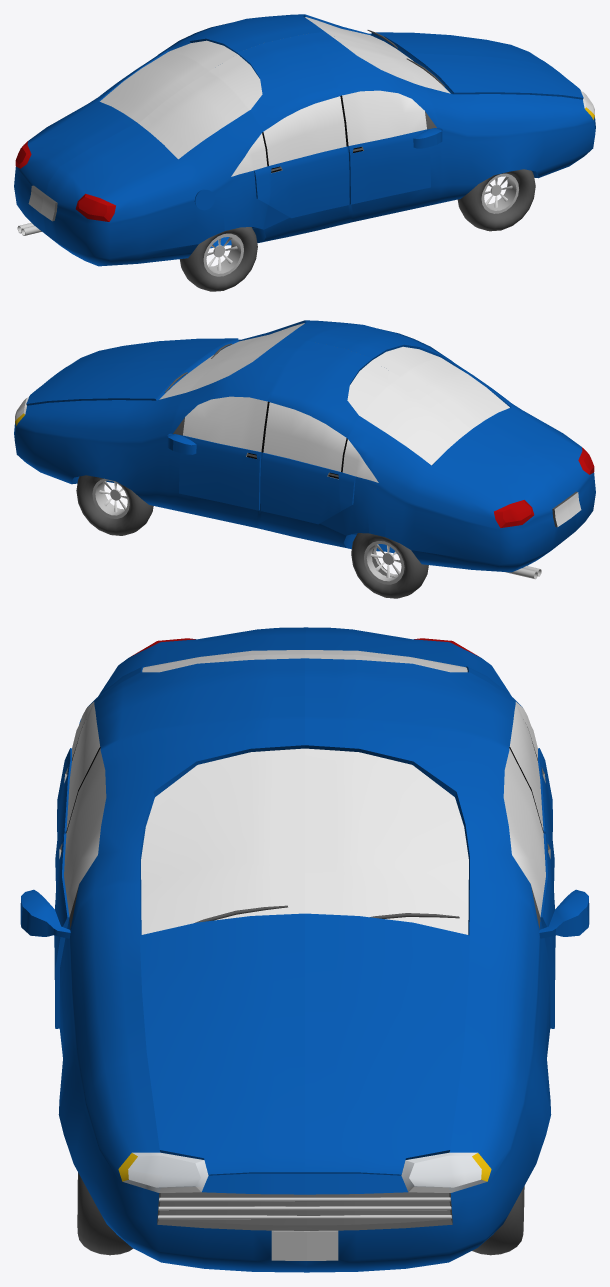
The model's file is VoitureBleue.fbx.
The picture shows the model from 3 angles, top to bottom: view 1: azimuth 30°, elevation 25°; view 2: azimuth 150°, elevation 25°; view 3: azimuth 270°, elevation 25°; orthographic projection. The views are drawn at different scales.
Parts seen in each view (by area): view 1: pCube3; view 2: pCube3; view 3: pCube3.
Part boxes in pixels (<box>): pCube3: <box>14,14,595,291</box>; pCube3: <box>14,320,595,598</box>; pCube3: <box>20,627,589,1272</box>.
Size of the model in its own units: 48.85 by 17.35 by 22.92.
